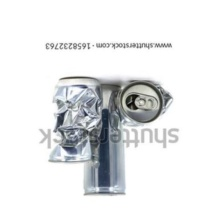can: (77, 82, 129, 208), (38, 72, 102, 171), (117, 77, 177, 130)
